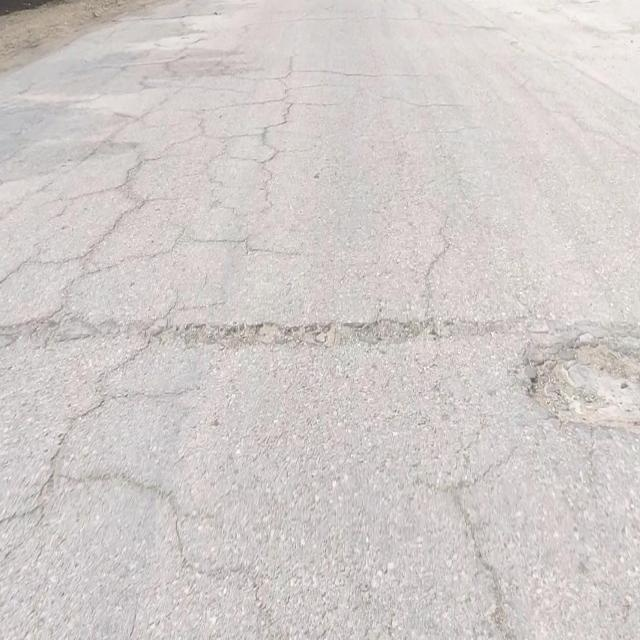pothole: (524, 332, 640, 439), (170, 321, 417, 347)
